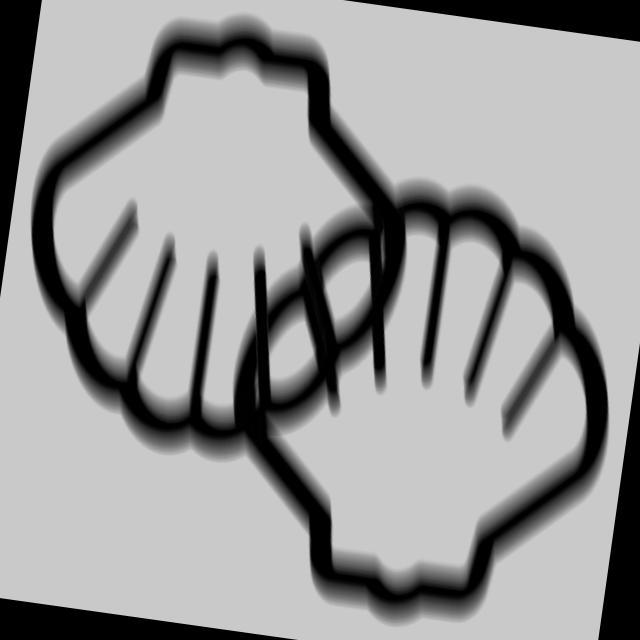shell: (194, 143, 640, 640), (1, 1, 447, 493)
